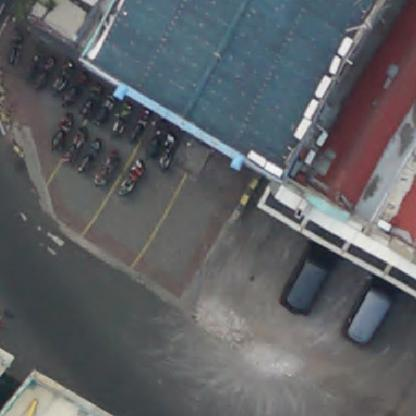car: (343, 267, 394, 349), (283, 240, 335, 320)
motorcycle: (119, 152, 141, 200), (5, 24, 28, 67), (50, 110, 73, 152), (76, 137, 100, 175), (93, 148, 113, 190), (63, 68, 85, 106), (65, 125, 86, 162), (110, 99, 127, 138), (130, 109, 150, 142), (80, 84, 96, 120), (161, 135, 176, 172), (54, 59, 71, 91), (96, 88, 110, 126), (39, 53, 53, 86), (149, 120, 161, 156)
